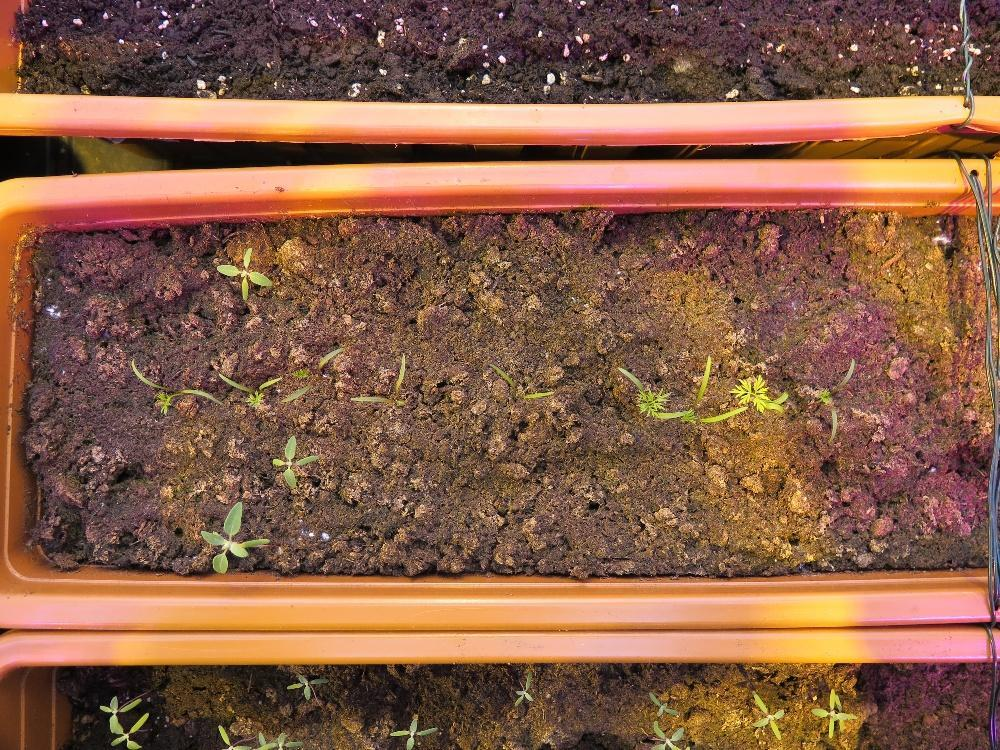weed: (214, 246, 273, 300), (268, 433, 321, 489), (749, 690, 784, 741), (284, 672, 328, 700), (647, 689, 679, 717), (512, 669, 533, 709)
